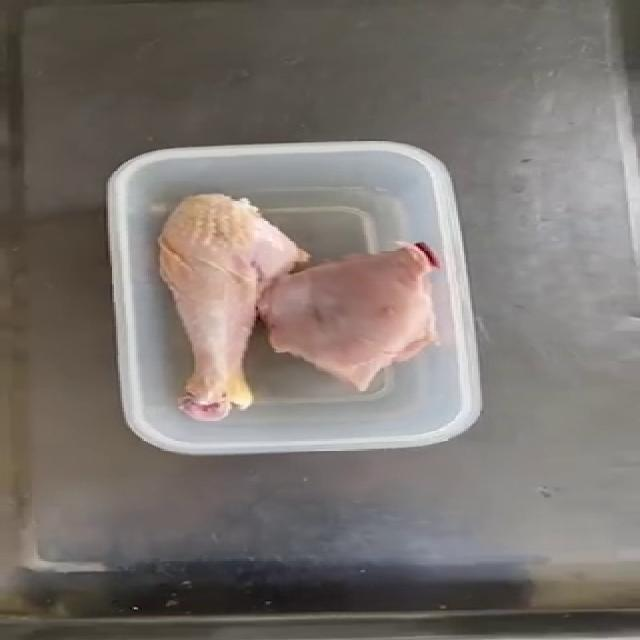chicken: (158, 190, 442, 416)
